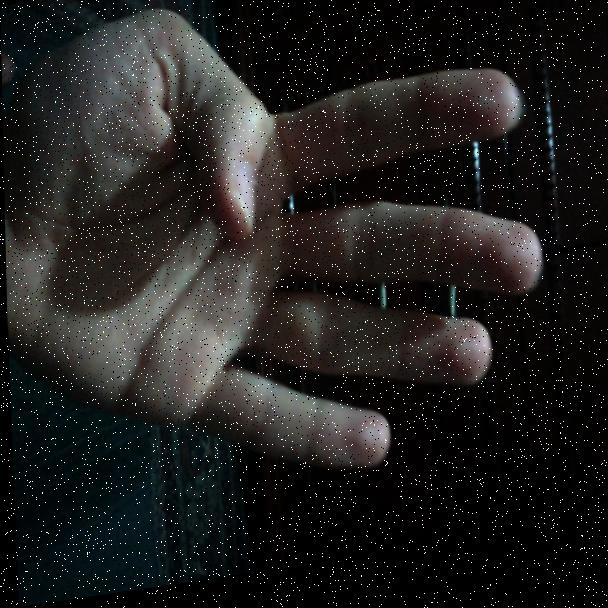four: (2, 0, 562, 569)
